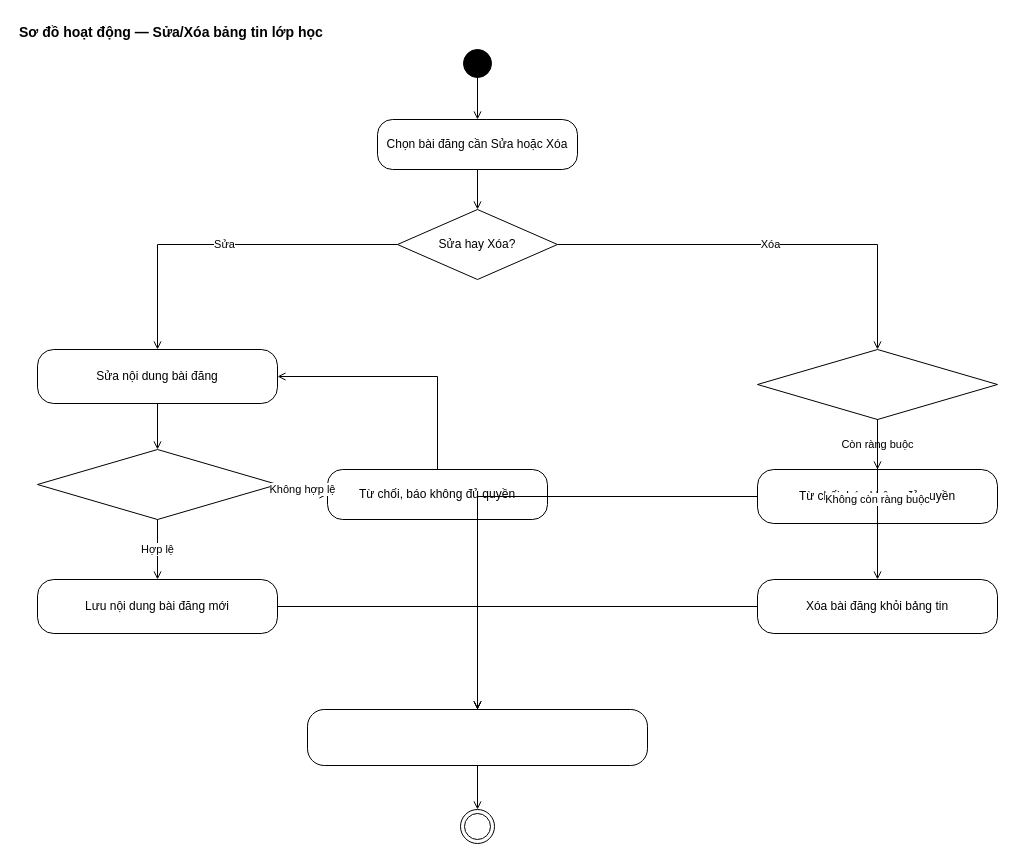
Image size: 1015x861. Some labels were removed from this diagram. Each missing label, with the box of its shape:
Hiển thị kết quả cho người dùng: (306, 708, 648, 766)
Người sửa là người đăng hoặc Admin?: (36, 448, 278, 520)
Người xóa là người đăng hoặc Admin?: (756, 348, 998, 420)
